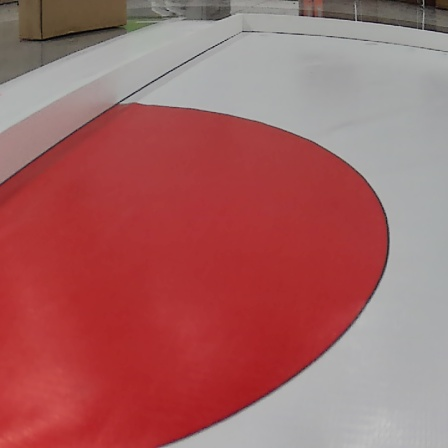red_base: (0, 96, 393, 445)
